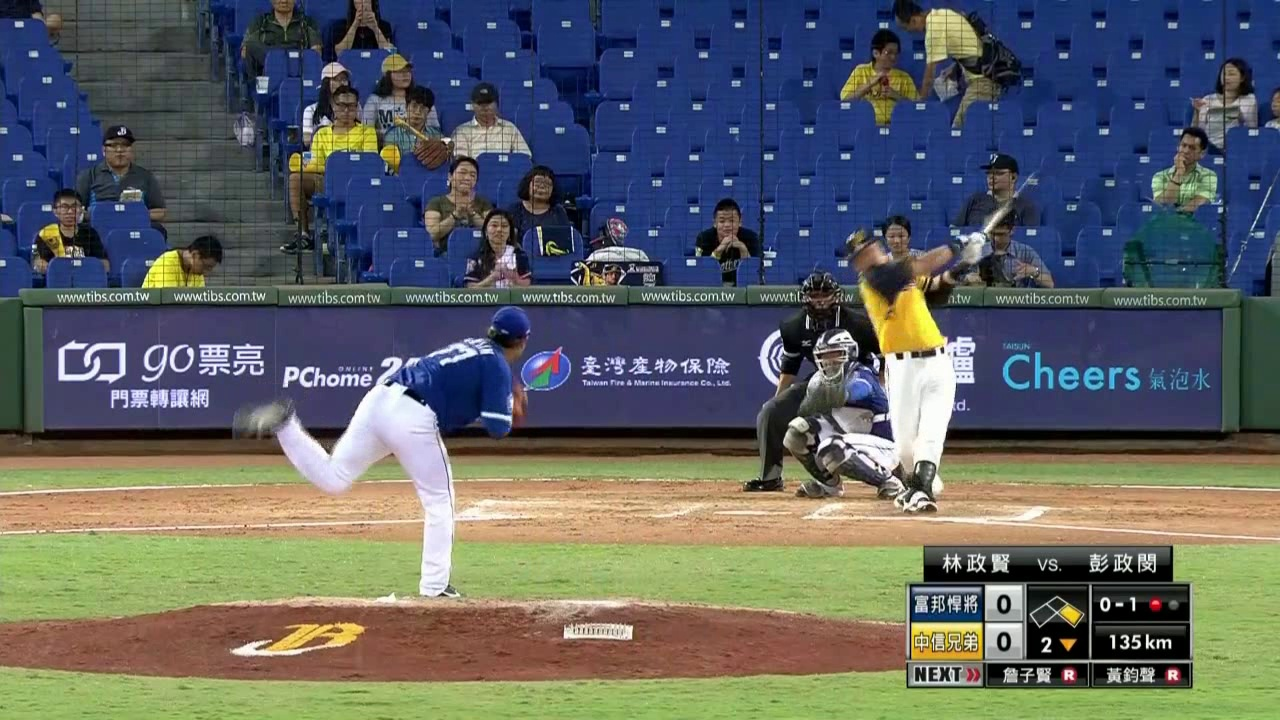base: (1029, 592, 1086, 628)
bat: (982, 163, 1045, 236)
out: (1145, 588, 1184, 616)
score1: (986, 587, 1020, 618)
score2: (987, 627, 1022, 655)
session: (1030, 628, 1088, 661)
speed: (1099, 628, 1179, 659)
strikeball: (1093, 589, 1142, 620)
